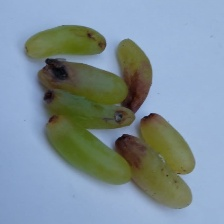grapes: (0, 9, 201, 196)
